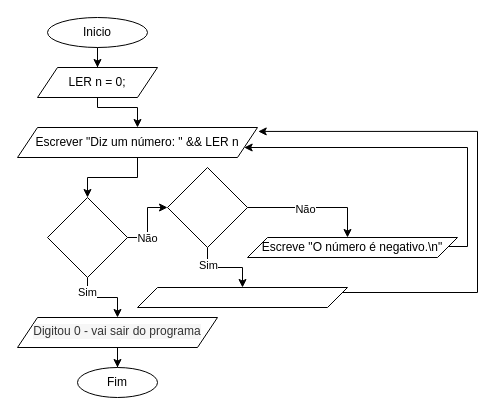
Image size: 503x415. Some labels were removed from this diagram. Each missing label, with the centre of its shape:
Escreve "O número é positivo.\n": point (242, 297)
n == 0: point (87, 237)
n > 0: point (207, 207)
